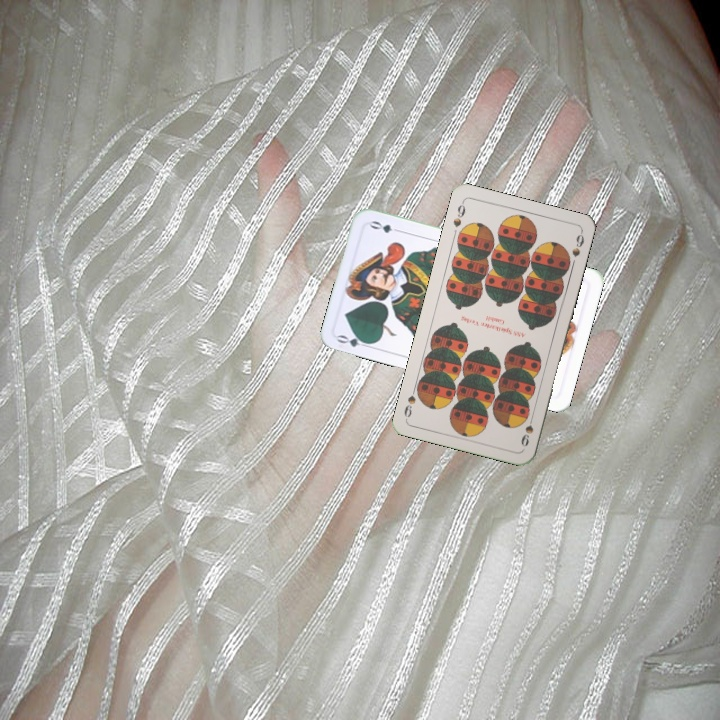GO: (333, 330, 375, 351)
S9: (517, 411, 537, 449), (449, 197, 468, 230)
